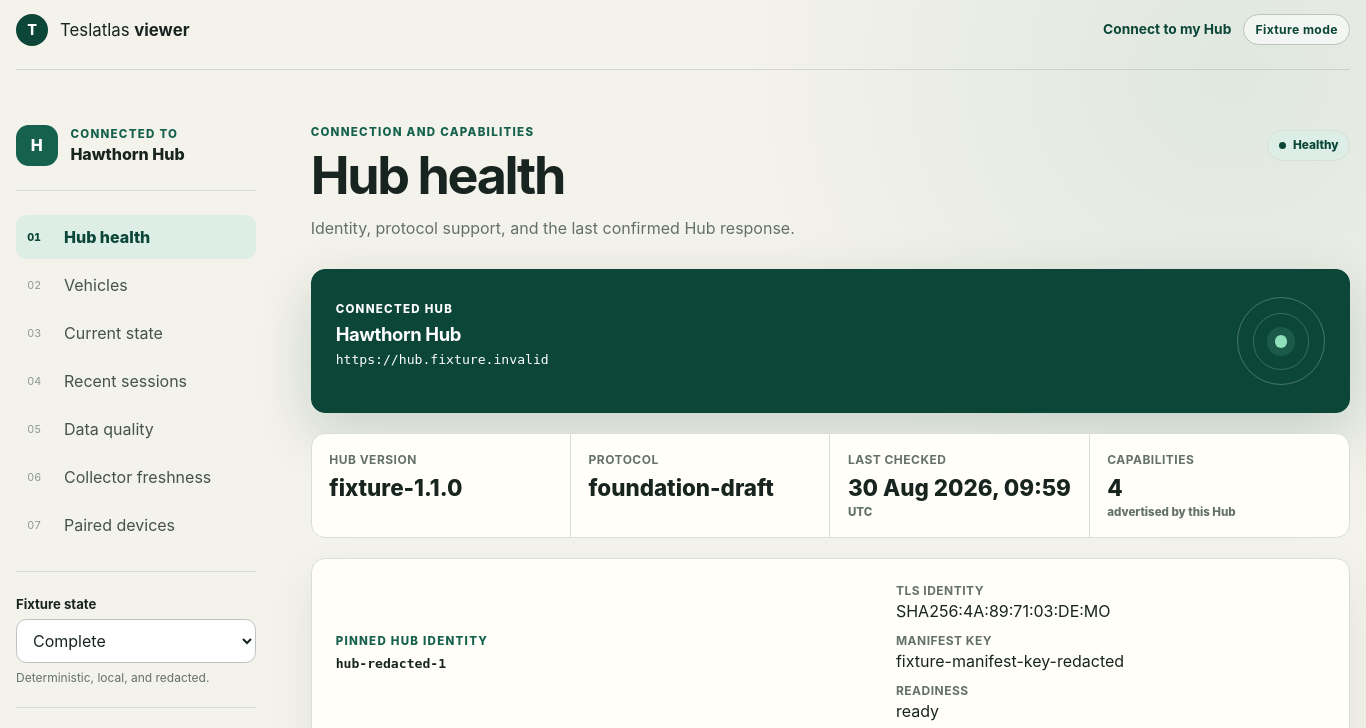
Test: reference views › keeps derived charge fields beside their session values
The image size is (1366, 728).
Click the button "04 Recent sessions" at (136, 381), box [16,359,256,403]
(page scrolled)
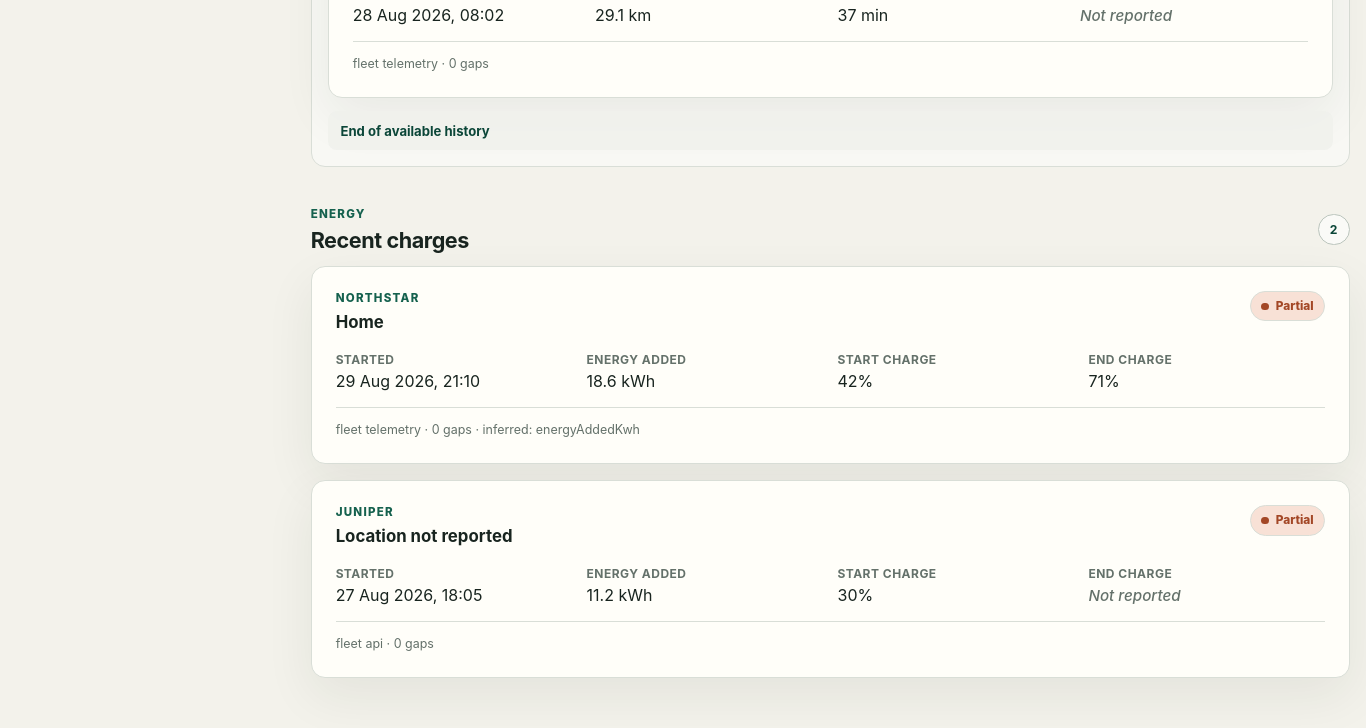
Now the text "fleet telemetry · 0 gaps · inferred: energyAddedKwh" is shown, box [336,407,1325,439]
